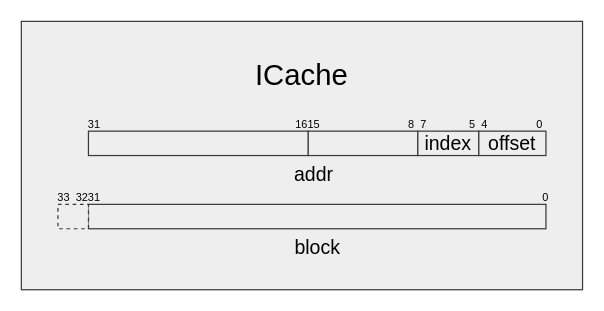
The diagram is 604 pixels wide and 311 high, and some of its shapes have lost their labels. Each missing label, with the centre of its shape:
"tag" goes at pixel 362 143.
"zero" goes at pixel 197 143.
